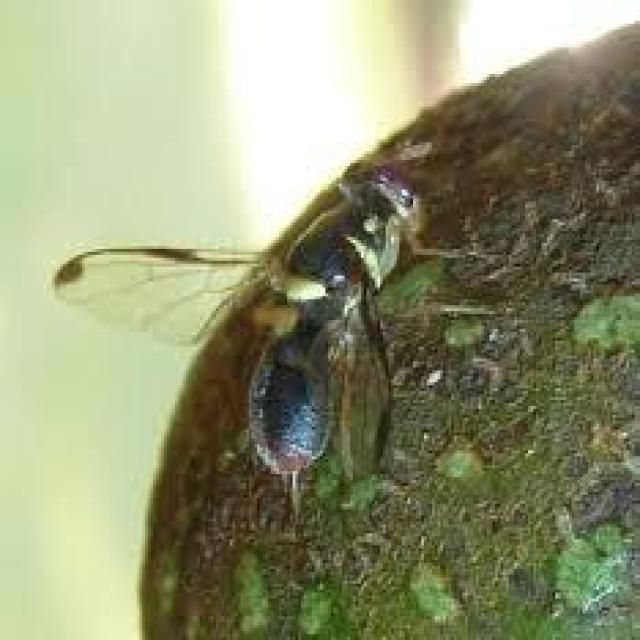Olive Fruit Fly: (57, 24, 637, 637)
